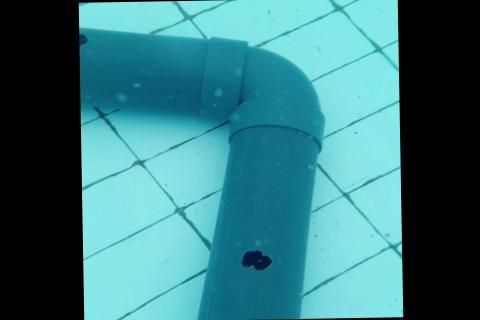kebocoran: (236, 248, 274, 271), (78, 32, 88, 46)
